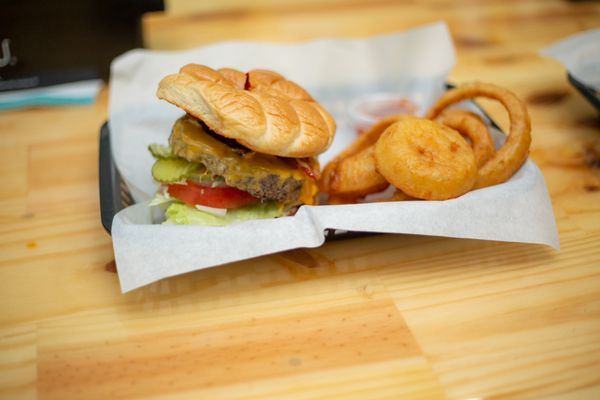soup: (147, 61, 338, 226)
